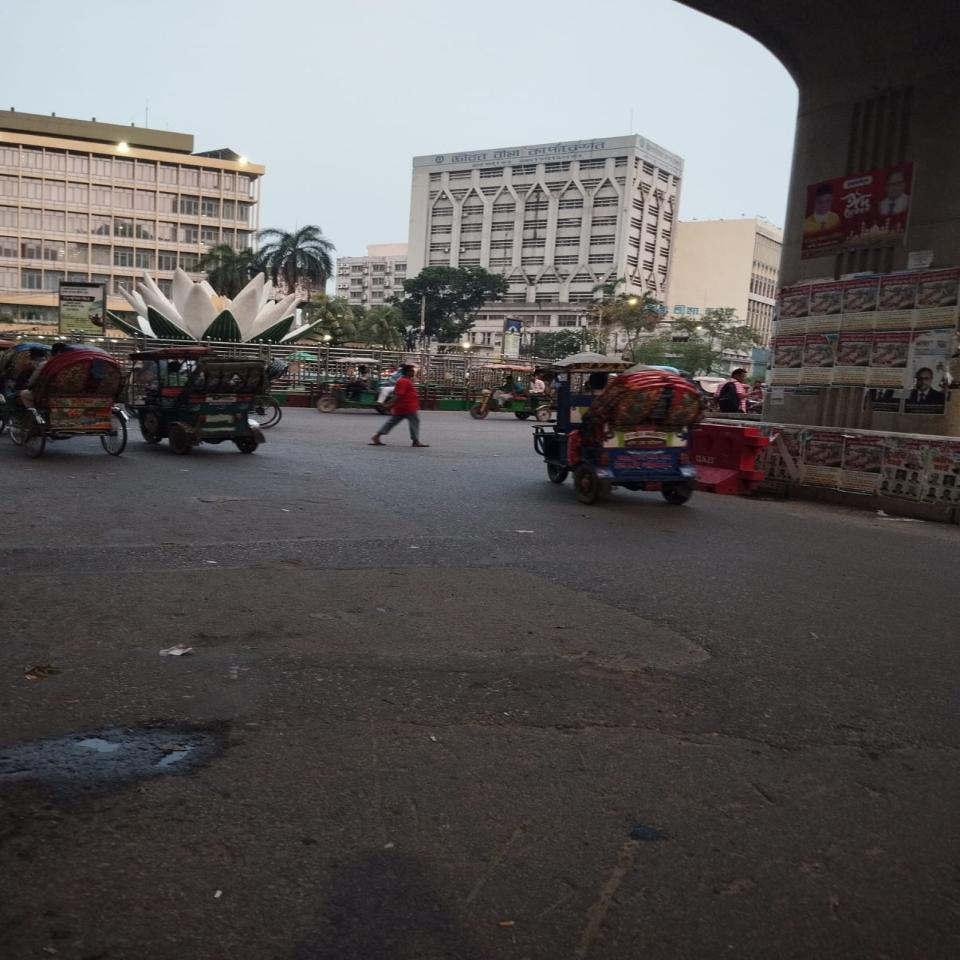person: (370, 364, 429, 448)
